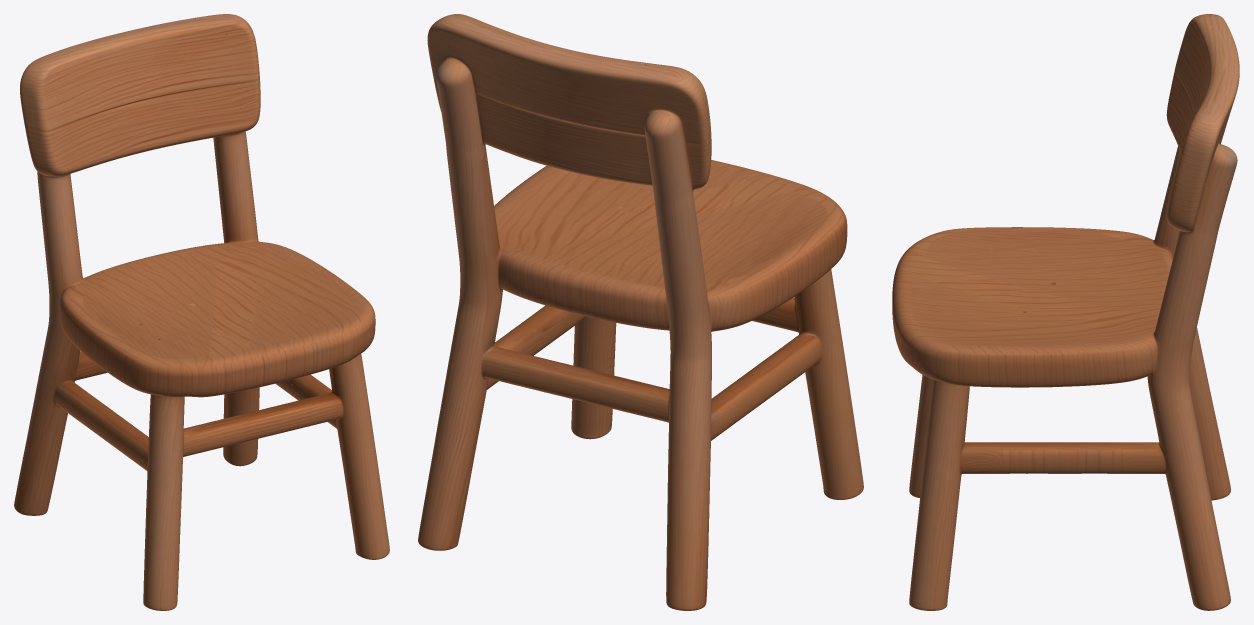
Rendered from chair-compressed.glb.
The picture shows the model from 3 angles, left to right: view 1: azimuth 30°, elevation 25°; view 2: azimuth 150°, elevation 25°; view 3: azimuth 270°, elevation 25°; orthographic projection. The views are drawn at different scales.
Visible parts, largest first — view 1: material; view 2: material; view 3: material.
Part boxes in pixels (<box>): material: <box>14,14,389,610</box>; material: <box>418,14,863,610</box>; material: <box>892,14,1239,610</box>.
Size of the model in its own units: 0.5422 by 0.947 by 0.6143.
Materials: 1 (1 with a texture image).
